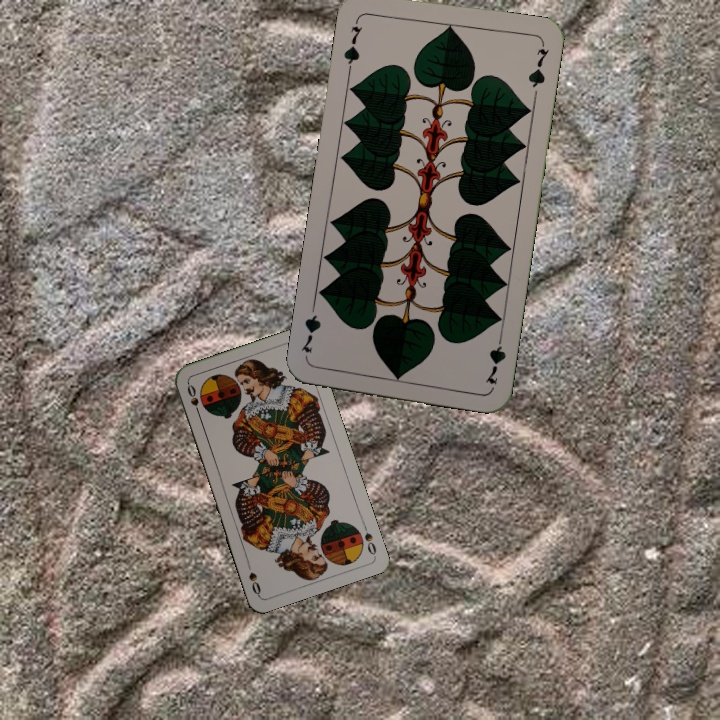G7: (481, 329, 509, 387), (340, 14, 365, 73)
SO: (358, 519, 379, 558), (183, 379, 203, 419)
